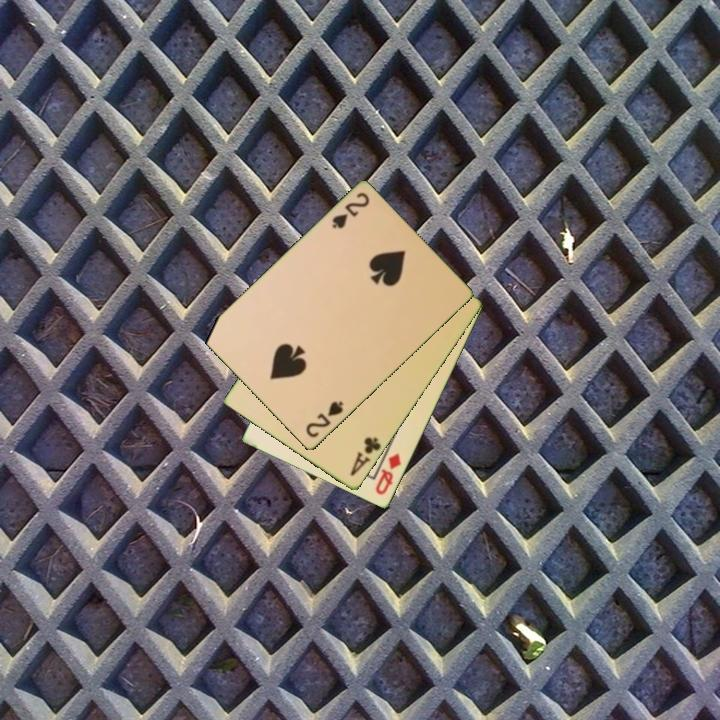2s: (302, 398, 346, 441), (329, 189, 372, 232)
Ac: (347, 434, 384, 479)
Qd: (372, 450, 404, 498)
